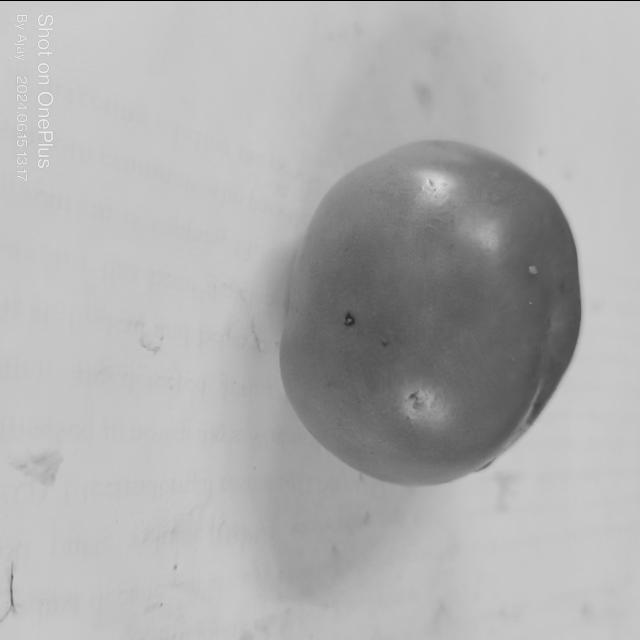Bacterial_Spot: (342, 307, 360, 333)
